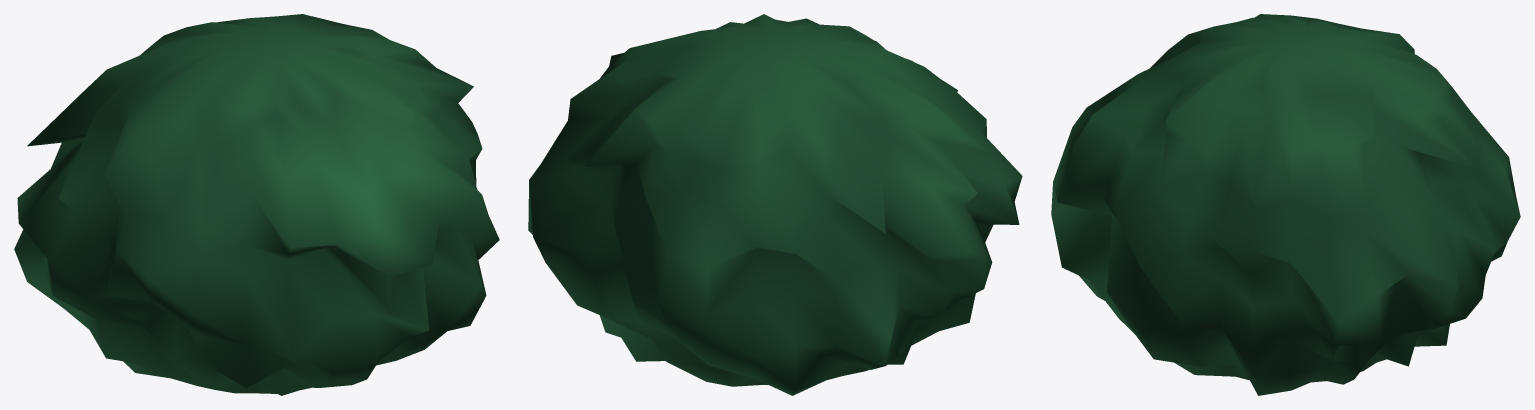
The model's file is Arbusto.fbx.
3 renders of one model, left to right at view 1: azimuth 30°, elevation 25°; view 2: azimuth 150°, elevation 25°; view 3: azimuth 270°, elevation 25°, orthographic. The views are drawn at different scales.
Visible parts, largest first — view 1: ArbustoPequeno; view 2: ArbustoPequeno; view 3: ArbustoPequeno.
Part boxes in pixels (x1,y1,x2,y2): ArbustoPequeno: (14, 14, 499, 395); ArbustoPequeno: (528, 14, 1022, 395); ArbustoPequeno: (1051, 14, 1520, 395).
Size of the model in its own units: 358 by 232 by 333.
